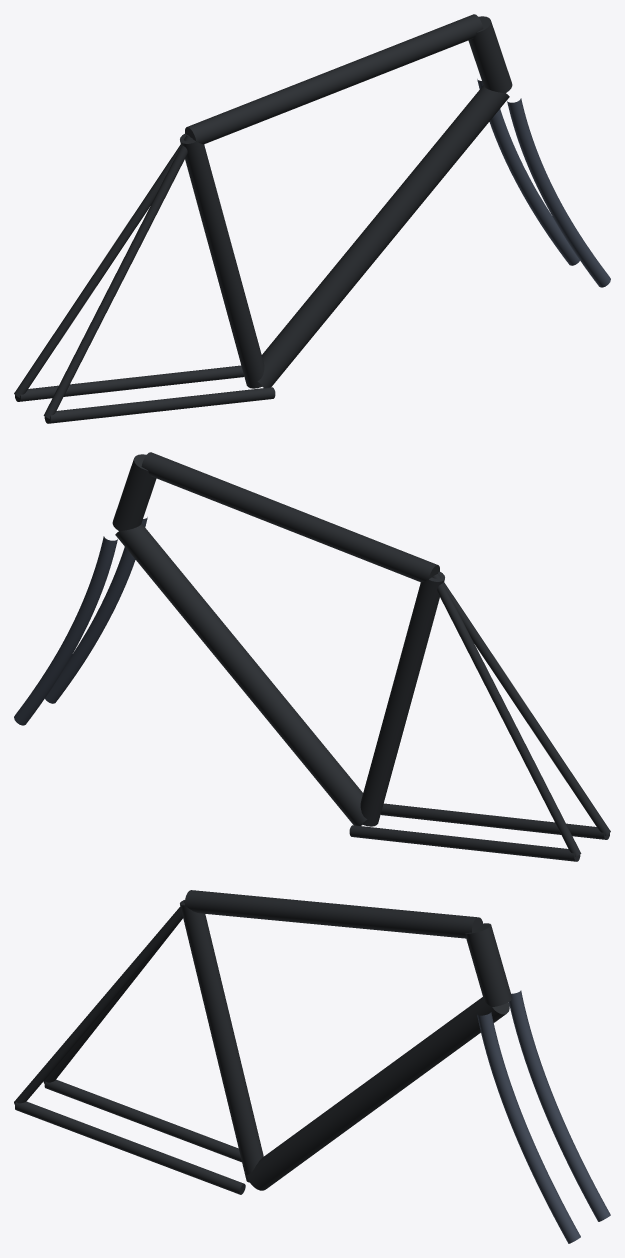
File: 8bar-krzberg-v8-s.glb
The picture shows the model from 3 angles, top to bottom: view 1: azimuth 30°, elevation 25°; view 2: azimuth 150°, elevation 25°; view 3: azimuth 330°, elevation 25°; orthographic projection.
Visible parts, largest first — view 1: paint_down, paint_top, paint_seat, fork_0.045, paint_seatstay_0.045, paint_chainstay_0.045, paint_seatstay_-0.045, paint_chainstay_-0.045, fork_-0.045, paint_head; view 2: paint_down, paint_top, paint_seat, fork_-0.045, paint_seatstay_-0.045, paint_chainstay_-0.045, paint_seatstay_0.045, paint_chainstay_0.045, fork_0.045, paint_head; view 3: paint_down, paint_top, paint_seat, fork_0.045, fork_-0.045, paint_chainstay_0.045, paint_chainstay_-0.045, paint_seatstay_0.045, paint_head, paint_seatstay_-0.045.
Part boxes in pixels (<box>): paint_down: <box>257,85,509,387</box>; paint_top: <box>185,14,483,144</box>; paint_seat: <box>180,133,264,388</box>; fork_0.045: <box>507,98,610,287</box>; paint_seatstay_0.045: <box>43,136,192,418</box>; paint_chainstay_0.045: <box>44,387,275,423</box>; paint_seatstay_-0.045: <box>14,135,189,397</box>; paint_chainstay_-0.045: <box>15,365,244,401</box>; fork_-0.045: <box>477,79,579,265</box>; paint_head: <box>468,16,512,92</box>; paint_down: <box>115,523,367,825</box>; paint_top: <box>141,452,439,582</box>; paint_seat: <box>360,571,444,826</box>; fork_-0.045: <box>14,536,117,725</box>; paint_seatstay_-0.045: <box>432,574,581,856</box>; paint_chainstay_-0.045: <box>349,825,580,861</box>; paint_seatstay_0.045: <box>435,573,610,835</box>; paint_chainstay_0.045: <box>380,803,609,839</box>; fork_0.045: <box>45,517,147,703</box>; paint_head: <box>112,454,156,530</box>; paint_down: <box>247,997,509,1190</box>; paint_top: <box>185,890,483,938</box>; paint_seat: <box>180,900,263,1182</box>; fork_0.045: <box>477,1012,580,1243</box>; fork_-0.045: <box>509,990,610,1221</box>; paint_chainstay_0.045: <box>15,1101,245,1194</box>; paint_chainstay_-0.045: <box>44,1079,241,1162</box>; paint_seatstay_0.045: <box>14,901,184,1104</box>; paint_head: <box>465,923,512,1007</box>; paint_seatstay_-0.045: <box>43,918,182,1083</box>.
Bounding box in the file's own units: 0.9858 × 0.5382 × 0.112.
